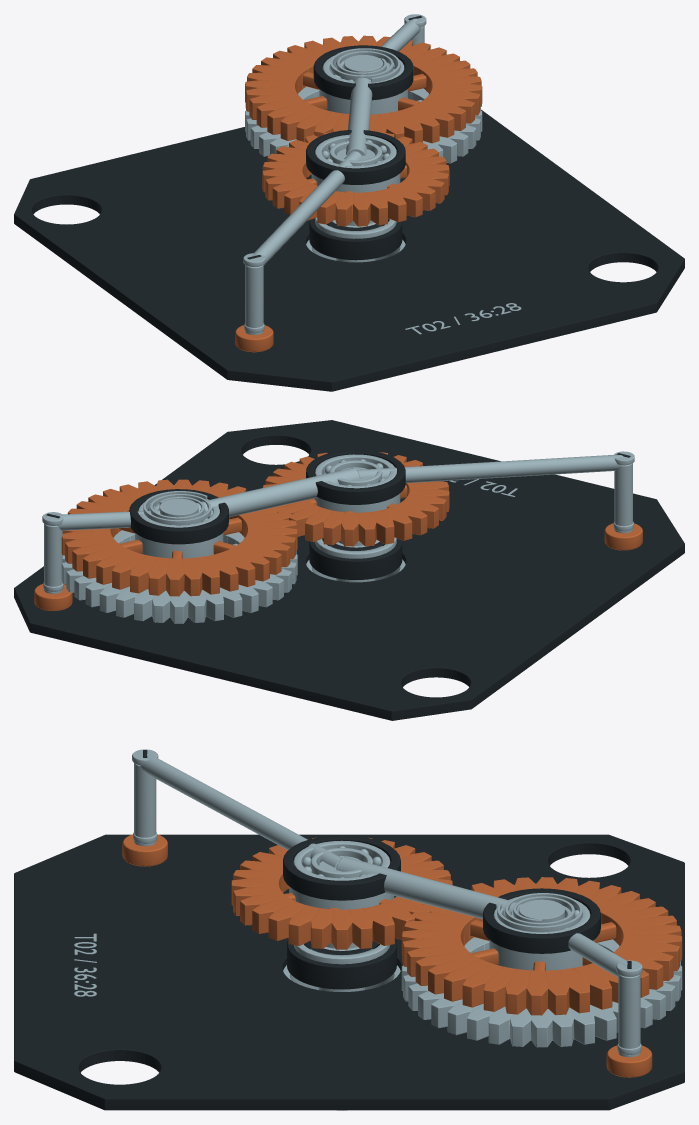
3 renders of one model, top to bottom at view 1: azimuth 30°, elevation 25°; view 2: azimuth 150°, elevation 25°; view 3: azimuth 270°, elevation 25°, orthographic. The views are drawn at different scales.
Parts seen in each view (by area): view 1: Export_T02_tray__Launcher_Graphite_POM__fixed_carrier, Export_T02_input_rotor__Performance_Copper_Anodized__input_g, Export_T02_output_rotor__Performance_Copper_Anodized__output, Export_T02_bearing_bridge__Launcher_Brushed_Steel__bearing_w, Export_T02_bearing_bridge__Launcher_Graphite_POM__bearing_wo, Export_T02_input_rotor__Launcher_Brushed_Steel__input_gear_w, Export_T02_tray__Launcher_Brushed_Steel__fixed_carrier, Export_T02_return_spring__Launcher_Brushed_Steel__return_spr, Export_T02_output_rotor__Launcher_Brushed_Steel__output_gear, Export_T02_tray__Performance_Copper_Anodized__fixed_carrier; view 2: Export_T02_tray__Launcher_Graphite_POM__fixed_carrier, Export_T02_input_rotor__Performance_Copper_Anodized__input_g, Export_T02_bearing_bridge__Launcher_Brushed_Steel__bearing_w, Export_T02_input_rotor__Launcher_Brushed_Steel__input_gear_w, Export_T02_output_rotor__Performance_Copper_Anodized__output, Export_T02_bearing_bridge__Launcher_Graphite_POM__bearing_wo, Export_T02_tray__Launcher_Brushed_Steel__fixed_carrier, Export_T02_tray__Performance_Copper_Anodized__fixed_carrier, Export_T02_return_spring__Launcher_Brushed_Steel__return_spr, Export_T02_output_rotor__Launcher_Brushed_Steel__output_gear; view 3: Export_T02_tray__Launcher_Graphite_POM__fixed_carrier, Export_T02_input_rotor__Performance_Copper_Anodized__input_g, Export_T02_bearing_bridge__Launcher_Brushed_Steel__bearing_w, Export_T02_input_rotor__Launcher_Brushed_Steel__input_gear_w, Export_T02_output_rotor__Performance_Copper_Anodized__output, Export_T02_bearing_bridge__Launcher_Graphite_POM__bearing_wo, Export_T02_tray__Launcher_Brushed_Steel__fixed_carrier, Export_T02_tray__Performance_Copper_Anodized__fixed_carrier, Export_T02_return_spring__Launcher_Brushed_Steel__return_spr, Export_T02_output_rotor__Launcher_Brushed_Steel__output_gear.
Boxes of the visible parts, x1=… form: Export_T02_tray__Launcher_Graphite_POM__fixed_carrier: x1=14, y1=109, x2=684, y2=391; Export_T02_input_rotor__Performance_Copper_Anodized__input_g: x1=245, y1=35, x2=482, y2=143; Export_T02_output_rotor__Performance_Copper_Anodized__output: x1=262, y1=132, x2=449, y2=226; Export_T02_bearing_bridge__Launcher_Brushed_Steel__bearing_w: x1=243, y1=14, x2=426, y2=334; Export_T02_bearing_bridge__Launcher_Graphite_POM__bearing_wo: x1=247, y1=15, x2=422, y2=259; Export_T02_input_rotor__Launcher_Brushed_Steel__input_gear_w: x1=245, y1=55, x2=482, y2=163; Export_T02_tray__Launcher_Brushed_Steel__fixed_carrier: x1=244, y1=217, x2=521, y2=334; Export_T02_return_spring__Launcher_Brushed_Steel__return_spr: x1=330, y1=48, x2=400, y2=82; Export_T02_output_rotor__Launcher_Brushed_Steel__output_gear: x1=311, y1=148, x2=400, y2=262; Export_T02_tray__Performance_Copper_Anodized__fixed_carrier: x1=235, y1=325, x2=273, y2=352; Export_T02_tray__Launcher_Graphite_POM__fixed_carrier: x1=14, y1=420, x2=684, y2=720; Export_T02_input_rotor__Performance_Copper_Anodized__input_g: x1=61, y1=479, x2=297, y2=596; Export_T02_bearing_bridge__Launcher_Brushed_Steel__bearing_w: x1=42, y1=451, x2=634, y2=593; Export_T02_input_rotor__Launcher_Brushed_Steel__input_gear_w: x1=61, y1=498, x2=297, y2=623; Export_T02_output_rotor__Performance_Copper_Anodized__output: x1=262, y1=452, x2=449, y2=546; Export_T02_bearing_bridge__Launcher_Graphite_POM__bearing_wo: x1=46, y1=449, x2=630, y2=544; Export_T02_tray__Launcher_Brushed_Steel__fixed_carrier: x1=43, y1=479, x2=633, y2=592; Export_T02_tray__Performance_Copper_Anodized__fixed_carrier: x1=34, y1=523, x2=642, y2=610; Export_T02_return_spring__Launcher_Brushed_Steel__return_spr: x1=143, y1=491, x2=211, y2=525; Export_T02_output_rotor__Launcher_Brushed_Steel__output_gear: x1=314, y1=467, x2=400, y2=582; Export_T02_tray__Launcher_Graphite_POM__fixed_carrier: x1=14, y1=834, x2=684, y2=1110; Export_T02_input_rotor__Performance_Copper_Anodized__input_g: x1=401, y1=877, x2=682, y2=1015; Export_T02_bearing_bridge__Launcher_Brushed_Steel__bearing_w: x1=132, y1=749, x2=642, y2=1057; Export_T02_input_rotor__Launcher_Brushed_Steel__input_gear_w: x1=401, y1=899, x2=682, y2=1047; Export_T02_output_rotor__Performance_Copper_Anodized__output: x1=231, y1=837, x2=452, y2=949; Export_T02_bearing_bridge__Launcher_Graphite_POM__bearing_wo: x1=143, y1=750, x2=631, y2=968; Export_T02_tray__Launcher_Brushed_Steel__fixed_carrier: x1=74, y1=832, x2=641, y2=1110; Export_T02_tray__Performance_Copper_Anodized__fixed_carrier: x1=122, y1=834, x2=652, y2=1077; Export_T02_return_spring__Launcher_Brushed_Steel__return_spr: x1=497, y1=893, x2=582, y2=932; Export_T02_output_rotor__Launcher_Brushed_Steel__output_gear: x1=289, y1=856, x2=394, y2=991.
Bounding box in the file's own units: 1.24 × 0.5065 × 1.33.
